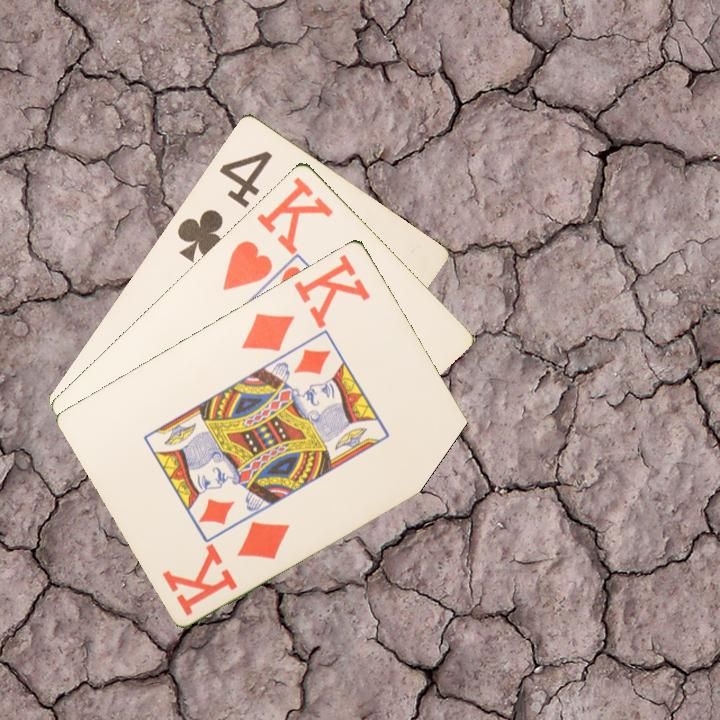4c: (173, 146, 276, 265)
Kd: (238, 250, 374, 354), (159, 517, 293, 619)
Kh: (218, 172, 337, 293)
